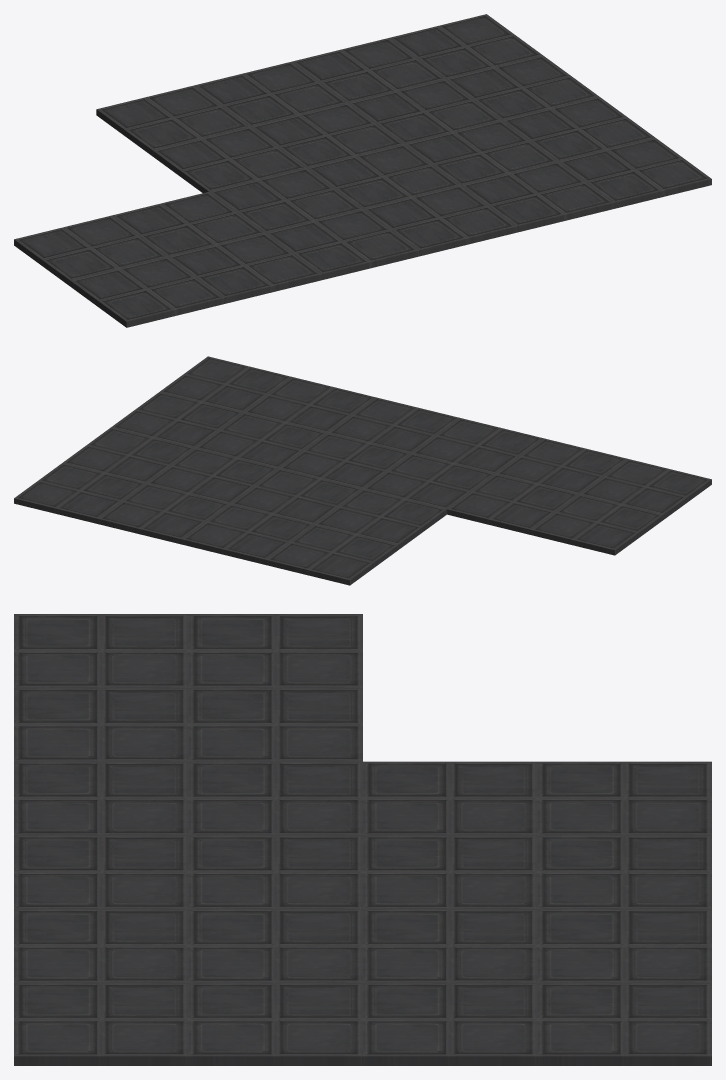
File: Homeworld_Interior_Dq_Room_G_Ceiling_01_Vo.fbx
The picture shows the model from 3 angles, top to bottom: view 1: azimuth 30°, elevation 25°; view 2: azimuth 150°, elevation 25°; view 3: azimuth 270°, elevation 25°; orthographic projection. The views are drawn at different scales.
Visible parts, largest first — view 1: Homeworld_Interior_Dq_Room_G_Ceiling_01_Vo; view 2: Homeworld_Interior_Dq_Room_G_Ceiling_01_Vo; view 3: Homeworld_Interior_Dq_Room_G_Ceiling_01_Vo.
Part boxes in pixels (x1=…): Homeworld_Interior_Dq_Room_G_Ceiling_01_Vo: x1=14, y1=14, x2=711, y2=327; Homeworld_Interior_Dq_Room_G_Ceiling_01_Vo: x1=14, y1=356, x2=711, y2=585; Homeworld_Interior_Dq_Room_G_Ceiling_01_Vo: x1=14, y1=614, x2=711, y2=1065.
Size of the model in its own units: 15 by 0.15 by 10.
